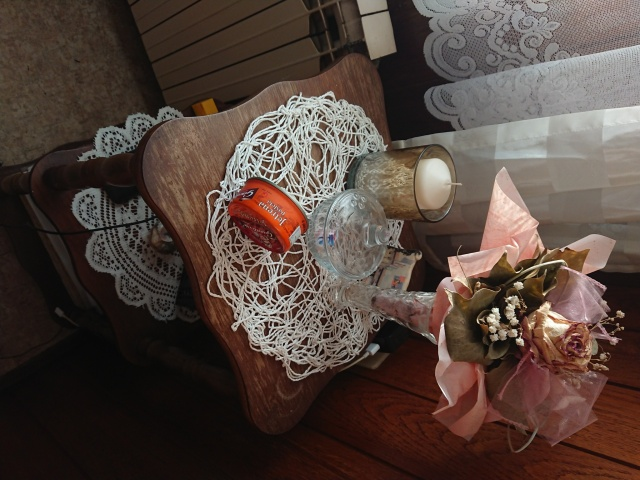Gavrilovic Pork Liver Pate 100g: (224, 174, 309, 254)
